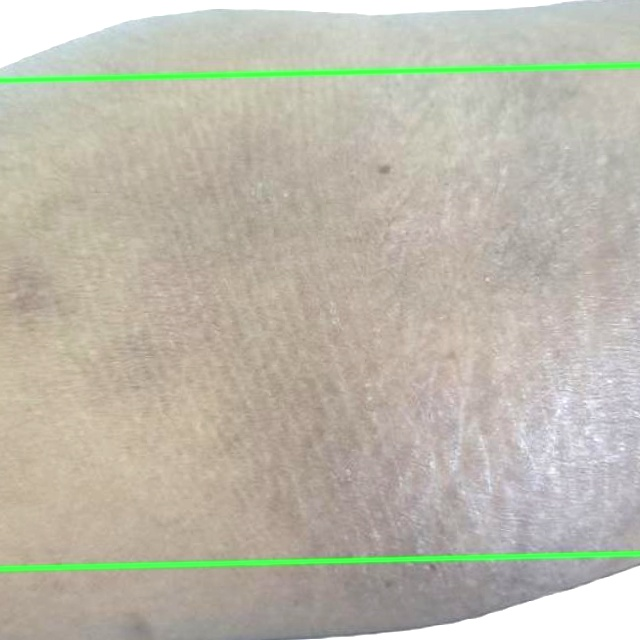Contact Dermatitis: (0, 553, 639, 639), (0, 0, 639, 80)
